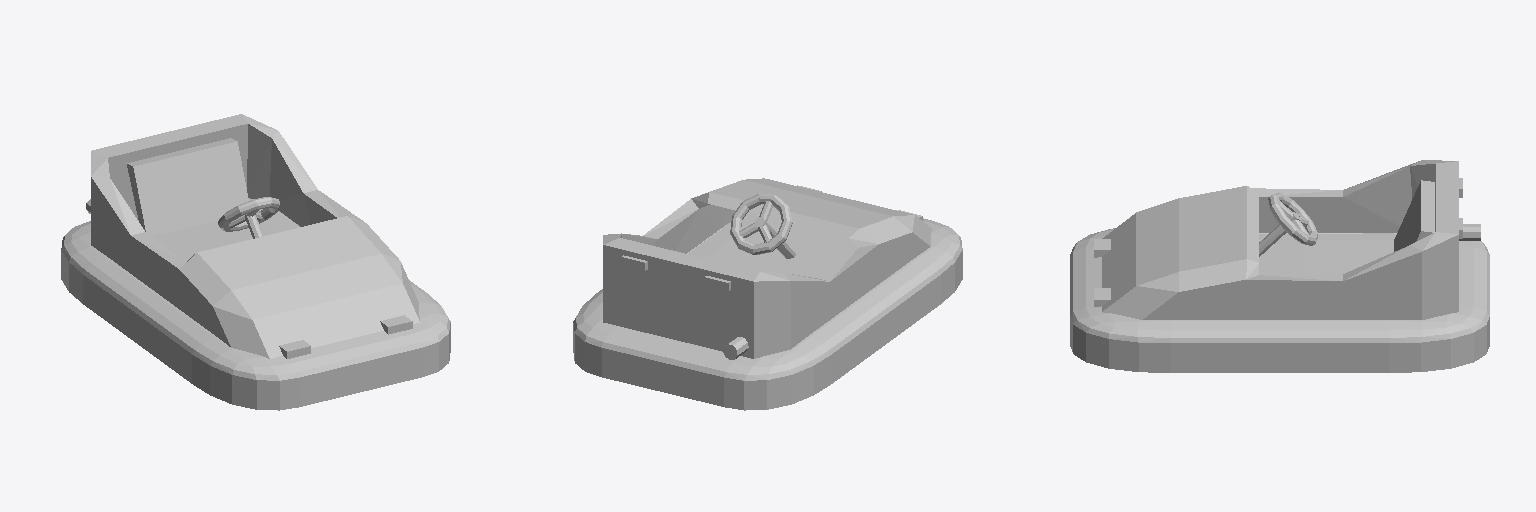
The model's file is bumperCar_3.obj.
3 renders of one model, left to right at view 1: azimuth 30°, elevation 25°; view 2: azimuth 150°, elevation 25°; view 3: azimuth 270°, elevation 25°, orthographic.
Visible parts, largest first — view 1: body_Cube.005, bottom_Cube.004, chair_Cube.006, steeringWheel_Torus; view 2: body_Cube.005, bottom_Cube.004, steeringWheel_Torus; view 3: body_Cube.005, bottom_Cube.004, chair_Cube.006, steeringWheel_Torus.
Part boxes in pixels (left/top/right/bottom): body_Cube.005: left=91, top=114, right=419, bottom=358; bottom_Cube.004: left=61, top=200, right=450, bottom=410; chair_Cube.006: left=127, top=138, right=278, bottom=261; steeringWheel_Torus: left=218, top=197, right=279, bottom=231; body_Cube.005: left=603, top=178, right=931, bottom=358; bottom_Cube.004: left=573, top=213, right=962, bottom=410; steeringWheel_Torus: left=730, top=193, right=792, bottom=254; body_Cube.005: left=1102, top=160, right=1458, bottom=319; bottom_Cube.004: left=1070, top=228, right=1489, bottom=372; chair_Cube.006: left=1306, top=180, right=1434, bottom=274; steeringWheel_Torus: left=1268, top=192, right=1317, bottom=245.
Size of the model in its own units: 0.975 by 0.4686 by 1.5.